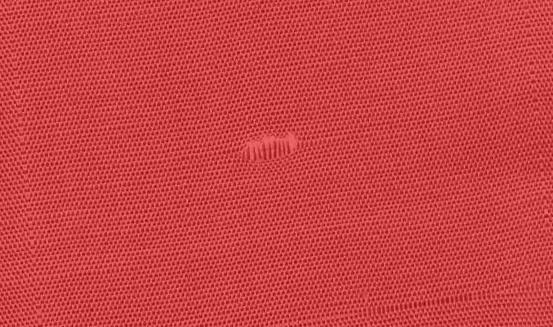slub: (233, 131, 304, 167)
